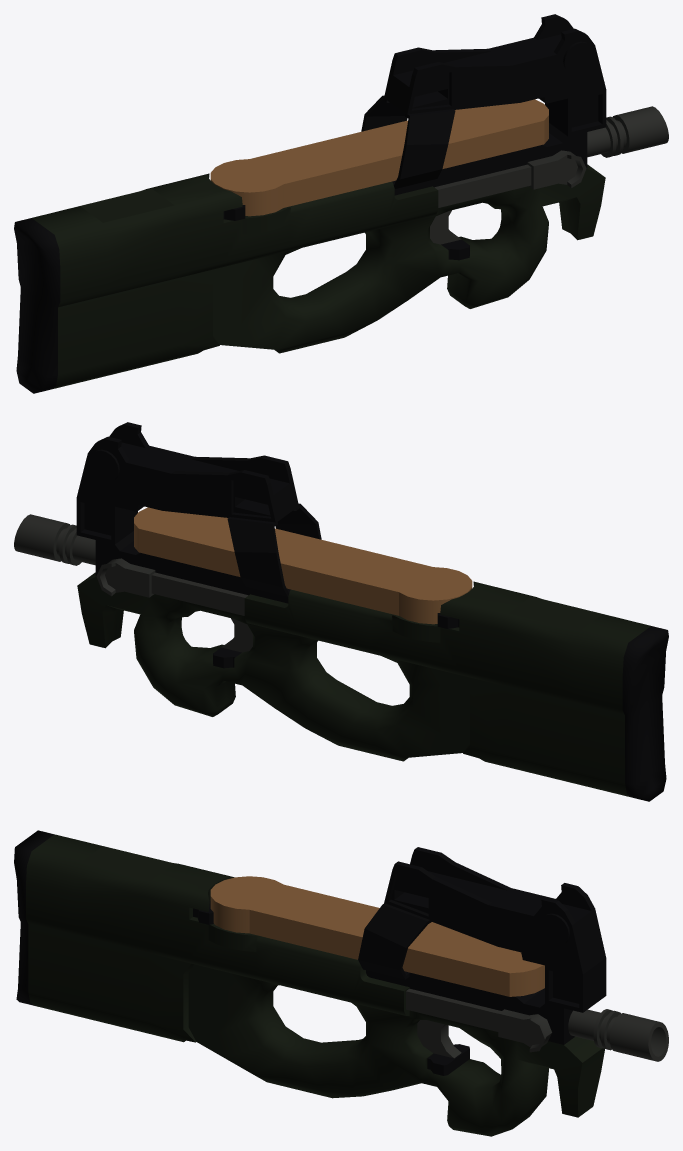
The model's file is submachine_gun_p90.fbx.
3 views of the same model, one above another, from view 1: azimuth 30°, elevation 25°; view 2: azimuth 150°, elevation 25°; view 3: azimuth 330°, elevation 25° (orthographic).
Parts seen in each view (by area): view 1: p90; view 2: p90; view 3: p90.
Boxes of the visible parts, box(x1,y1,x2,y2) form: p90: box(14, 14, 668, 393); p90: box(14, 422, 668, 801); p90: box(14, 830, 668, 1136).
Bounding box in the file's own units: 51.56 × 19.76 × 5.91.
